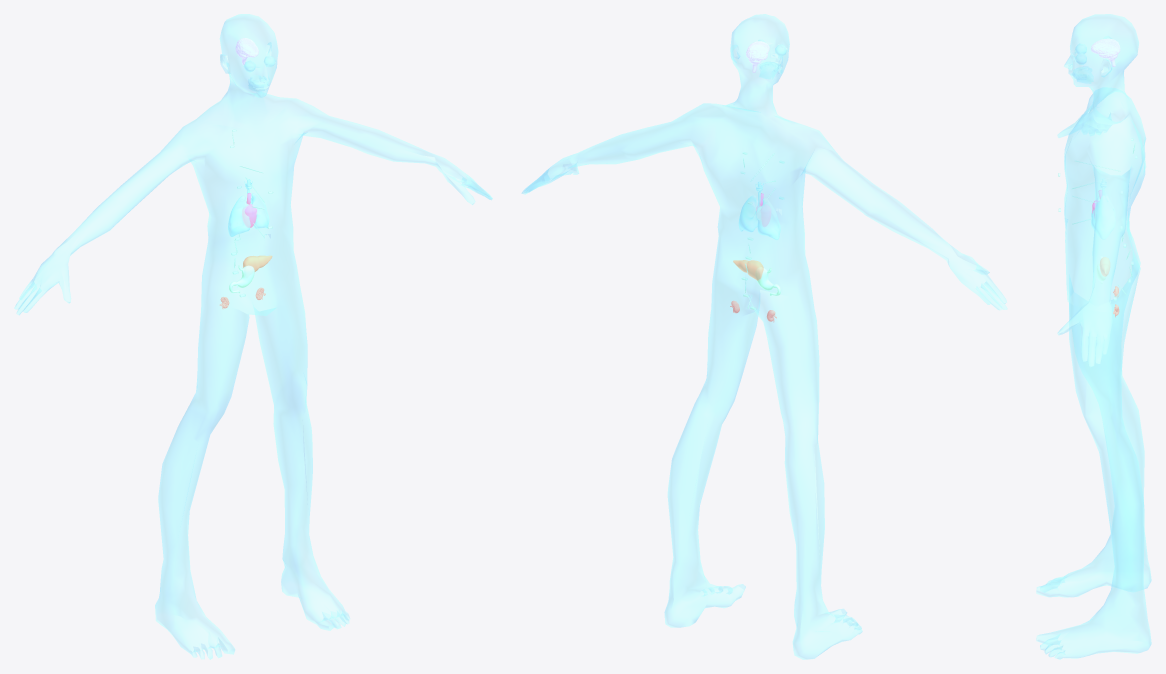
The model's file is full-body.glb.
The picture shows the model from 3 angles, left to right: view 1: azimuth 30°, elevation 25°; view 2: azimuth 150°, elevation 25°; view 3: azimuth 270°, elevation 25°; orthographic projection.
Visible parts, largest first — view 1: M_lowpoly_0, Lungs; view 2: M_lowpoly_0, Lungs; view 3: M_lowpoly_0, Lungs, Brain.
Part boxes in pixels (left/top/right/bottom): M_lowpoly_0: left=14, top=14, right=492, bottom=659; Lungs: left=228, top=179, right=269, bottom=236; M_lowpoly_0: left=521, top=14, right=1007, bottom=659; Lungs: left=738, top=181, right=780, bottom=239; M_lowpoly_0: left=1036, top=14, right=1151, bottom=659; Lungs: left=1091, top=178, right=1115, bottom=239; Brain: left=1091, top=38, right=1120, bottom=66.
Size of the model in its own units: 3.3 by 4 by 0.6911.
